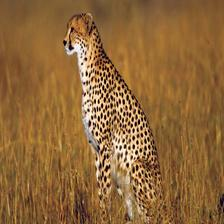Cheetah: (62, 12, 165, 224)
